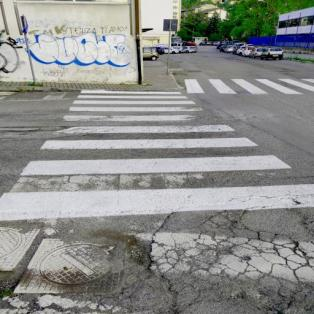Paso de Cebra: (15, 136, 297, 179), (66, 99, 206, 114), (229, 74, 306, 101)
